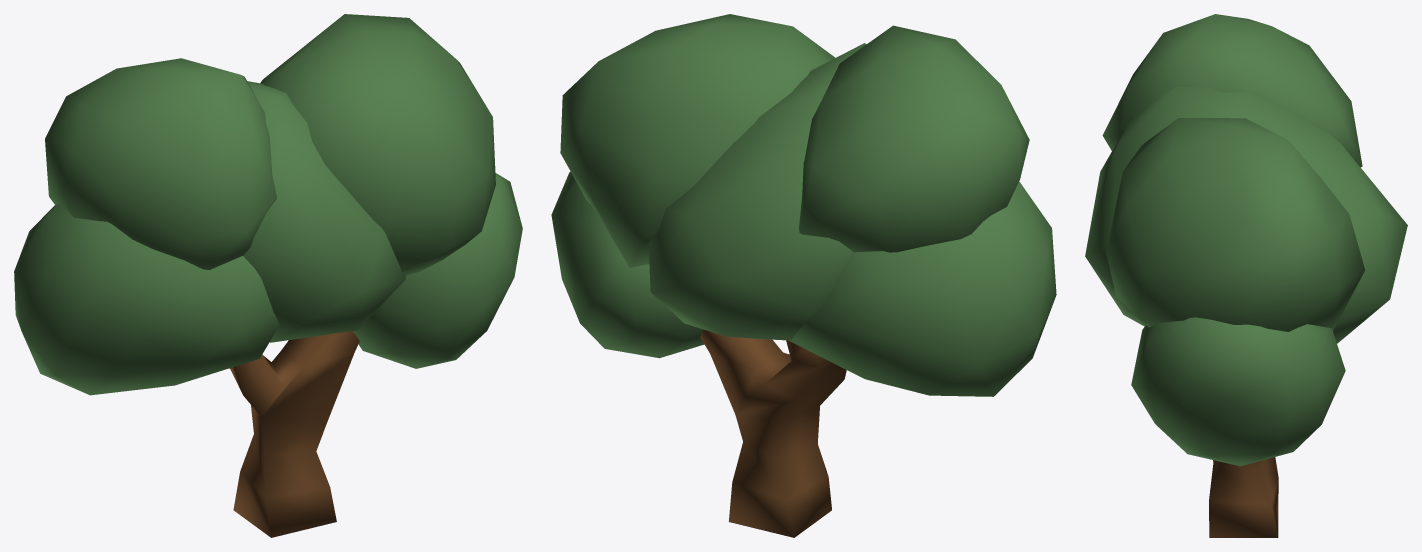
File: Tree.fbx
3 views of the same model, side by side, from view 1: azimuth 30°, elevation 25°; view 2: azimuth 150°, elevation 25°; view 3: azimuth 270°, elevation 25° (orthographic). The views are drawn at different scales.
Parts seen in each view (by area): view 1: OakTree1; view 2: OakTree1; view 3: OakTree1.
Part boxes in pixels (<box>): OakTree1: <box>14,14,522,537</box>; OakTree1: <box>551,14,1056,537</box>; OakTree1: <box>1085,14,1407,537</box>.
Bounding box in the file's own units: 2159 × 2122 × 1390.
1 material, 1 textured.
